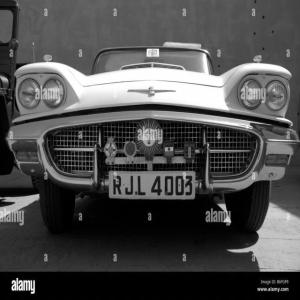Plate: (109, 171, 195, 199)
